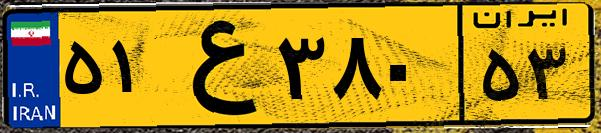0: (385, 28, 445, 110)
1: (110, 28, 158, 98)
3: (270, 28, 330, 110), (525, 38, 570, 115)
5: (57, 26, 110, 100), (475, 38, 525, 113)
8: (330, 28, 385, 110)
ع: (158, 12, 270, 120)
